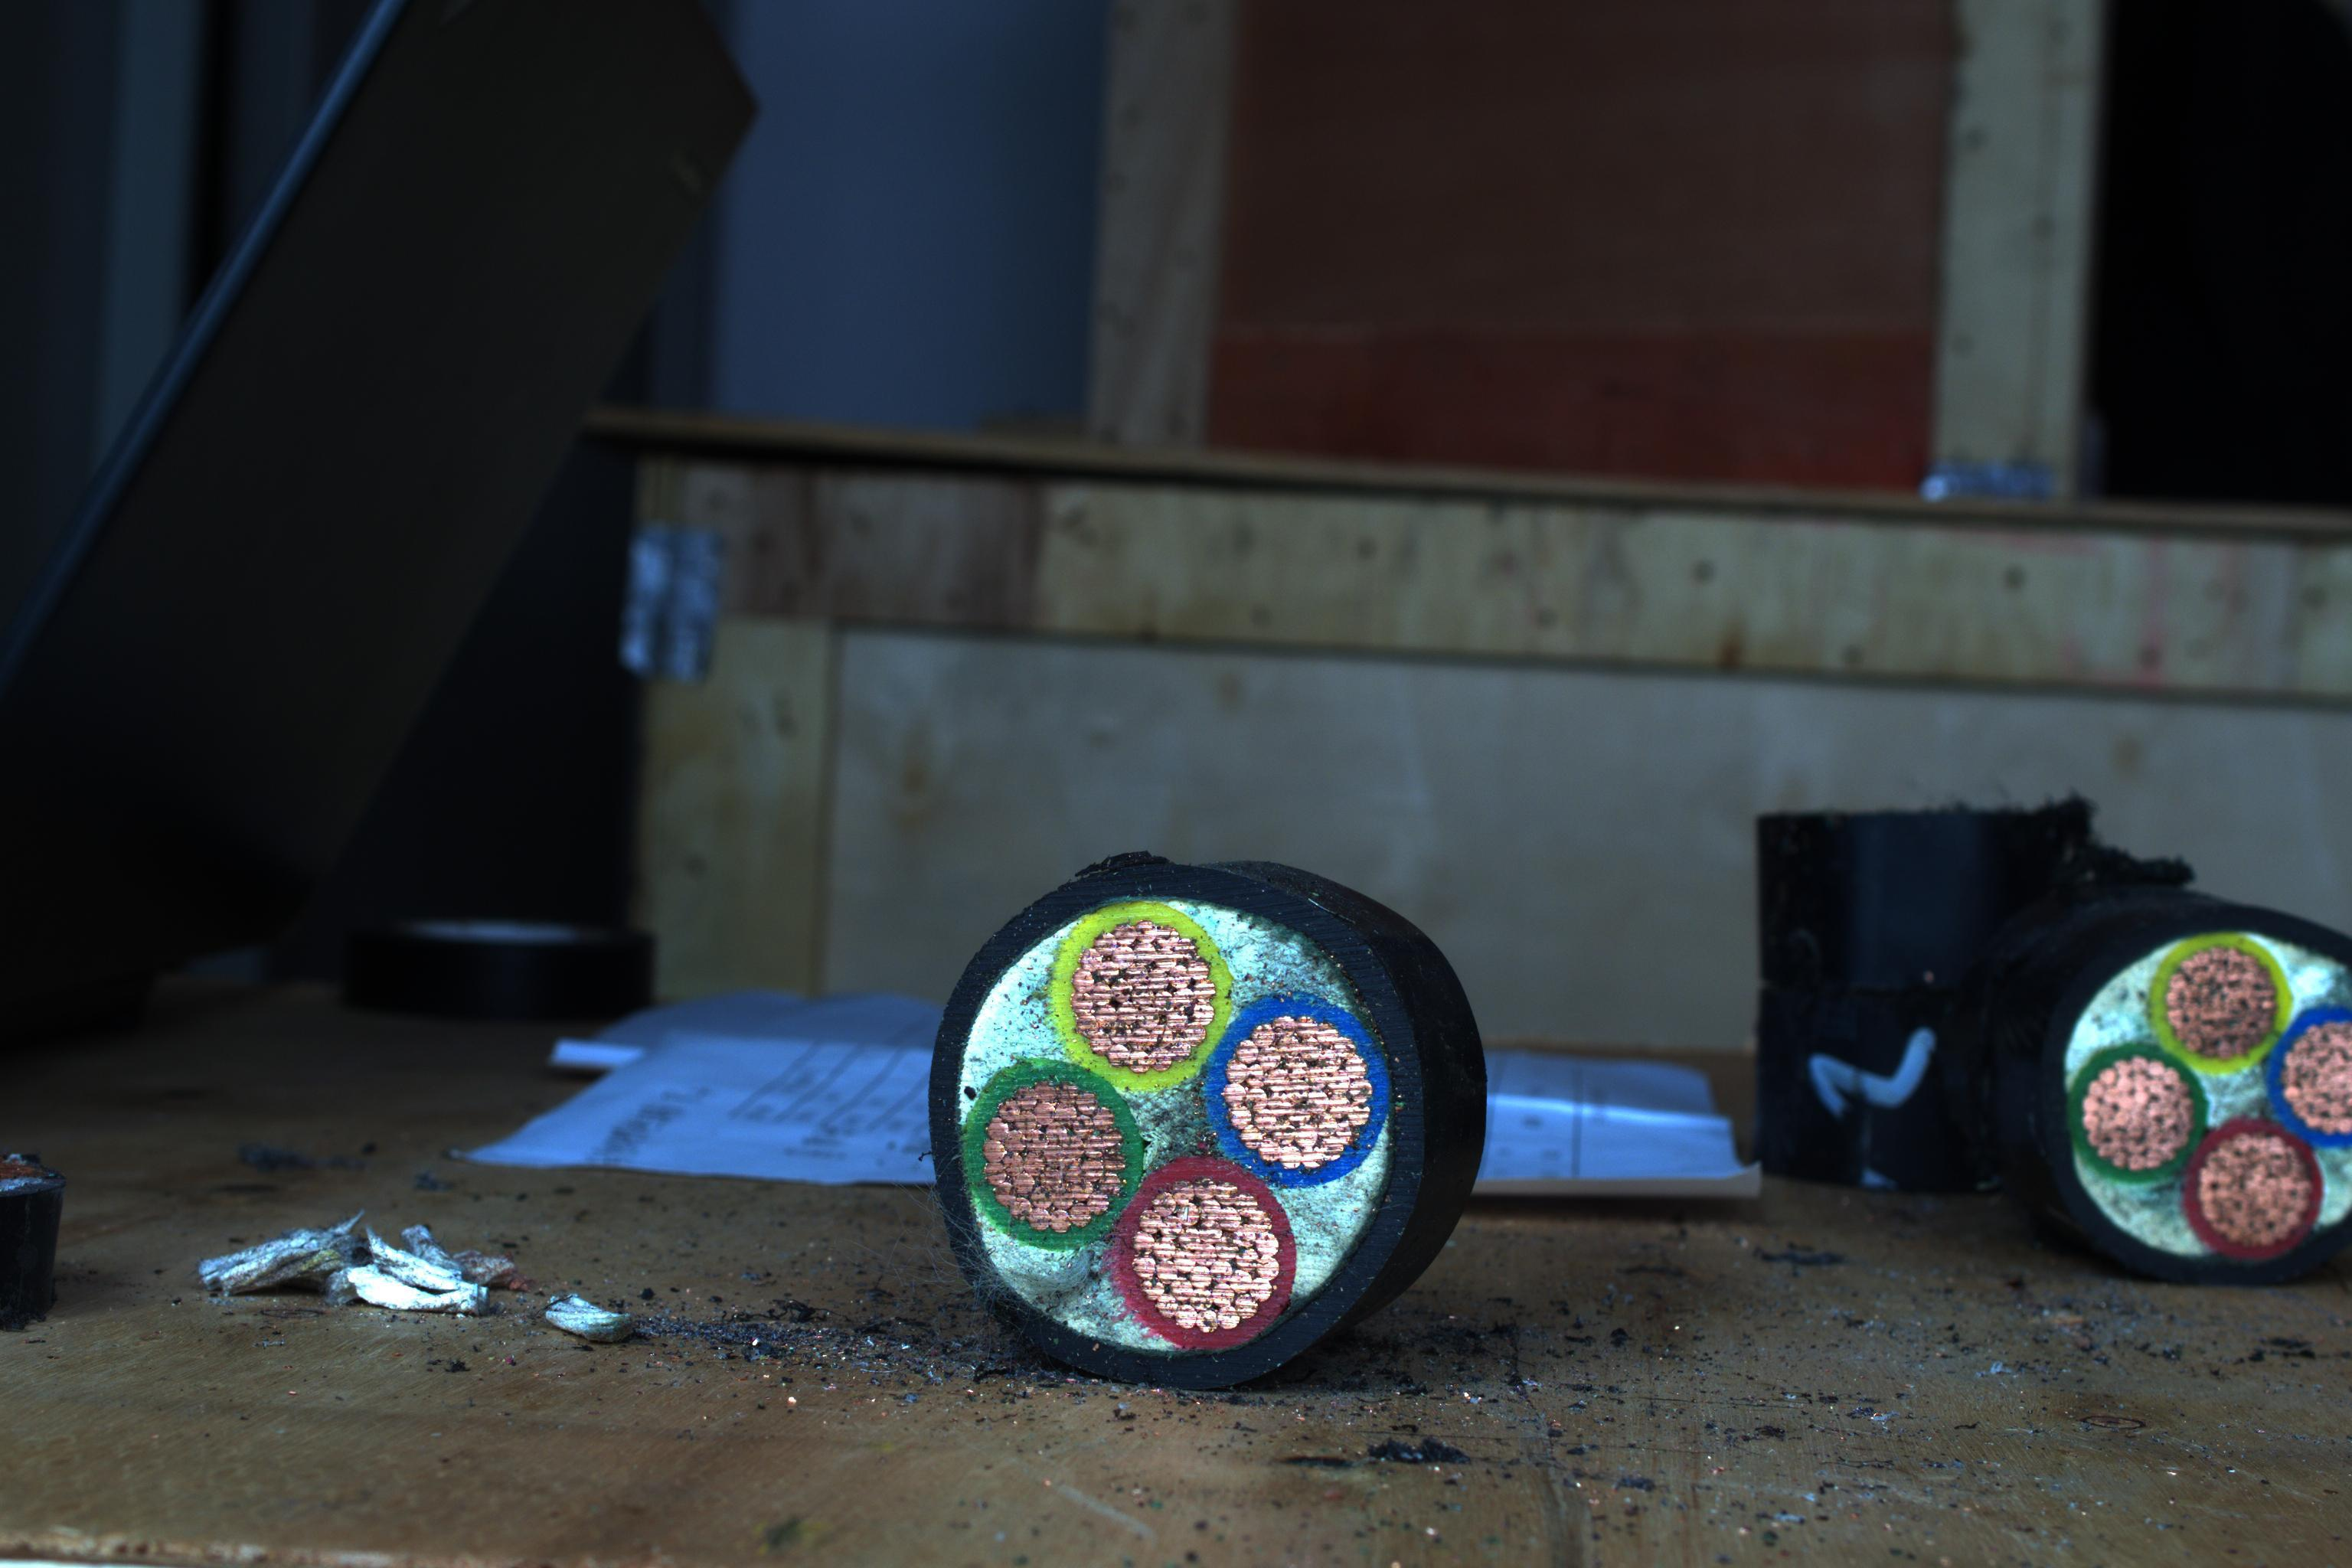YJV_0.6_1kV_4x185: (924, 873, 1410, 1360)
